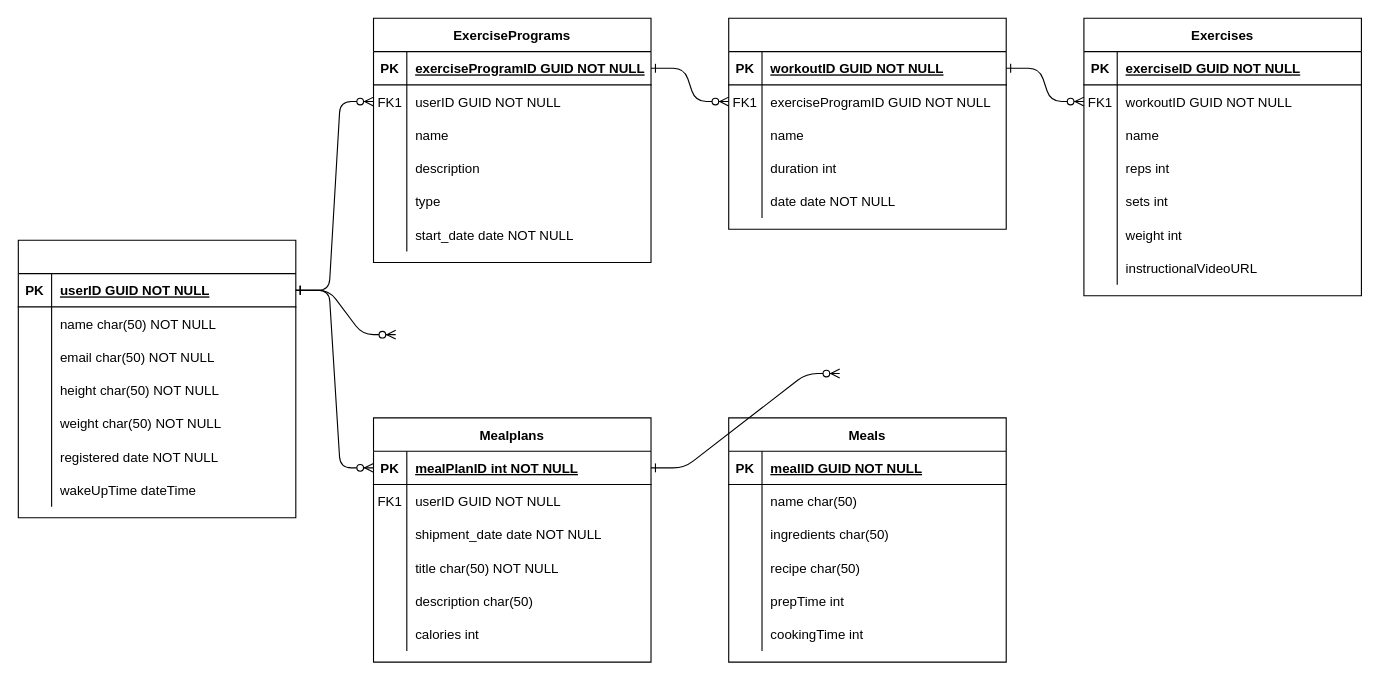
Image size: 1380x680. Some labels were removed from this diagram. The box of each missing label's shape, as (x1, y1, x2, y2) in pixels:
Users: (17, 239, 296, 518)
Workouts: (728, 17, 1006, 229)
